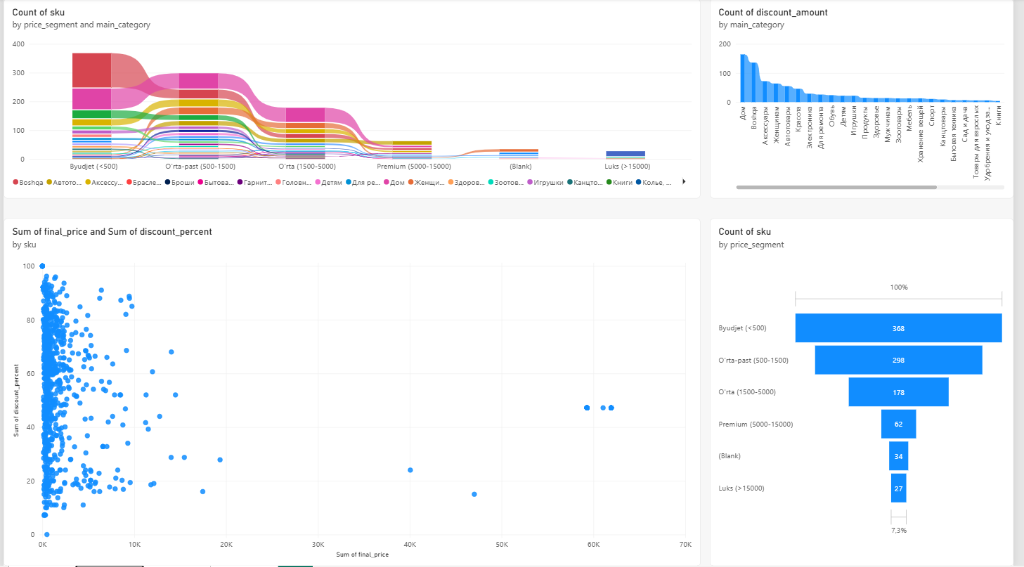

The page's visual inventory and layout, read from the dashboard file:
{"tool":"powerbi","page":{"name":"Page 2","canvas":[1920,1080],"ordinal":1},"visuals":[{"type":"scatterChart","fields":{"Category":["WB_Products.sku"],"X":["Sum(WB_Products.final_price)"],"Y":["Sum(WB_Products.discount_percent)"]},"box":[0,417.5,1325,662.5],"z":0},{"type":"ribbonChart","fields":{"Category":["WB_Products.main_category"],"Y":["Count(WB_Products.discount_amount)"]},"box":[1342.5,0,577.5,380],"z":1000},{"type":"funnel","fields":{"Category":["WB_Products.price_segment"],"Y":["Count(WB_Products.sku)"]},"box":[1342.5,417.5,577.5,662.5],"z":2000},{"type":"ribbonChart","fields":{"Category":["WB_Products.price_segment"],"Series":["WB_Products.main_category"],"Y":["CountNonNull(WB_Products.sku)"]},"box":[0,0,1325,380],"z":3000}]}

Visuals, with their boxes in screenshot pixels (x1, y1, x2, y2), scaled from the page's 1920x1080 canvas onto the 1024x567 screenshot:
scatterChart - WB_Products.sku x Sum(WB_Products.final_price): bbox=[0, 219, 707, 566]
ribbonChart - WB_Products.main_category x Count(WB_Products.discount_amount): bbox=[716, 0, 1023, 200]
funnel - WB_Products.price_segment x Count(WB_Products.sku): bbox=[716, 219, 1023, 566]
ribbonChart - WB_Products.price_segment x WB_Products.main_category: bbox=[0, 0, 707, 200]
